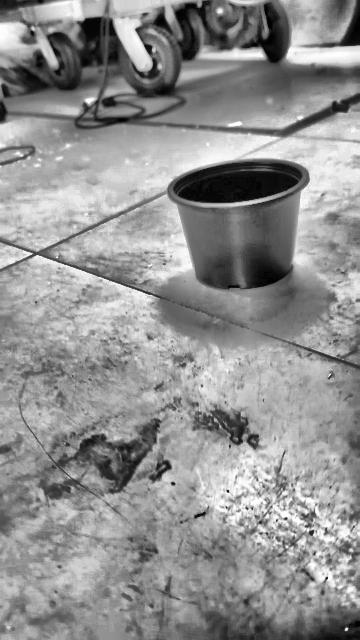pot: (167, 159, 308, 288)
